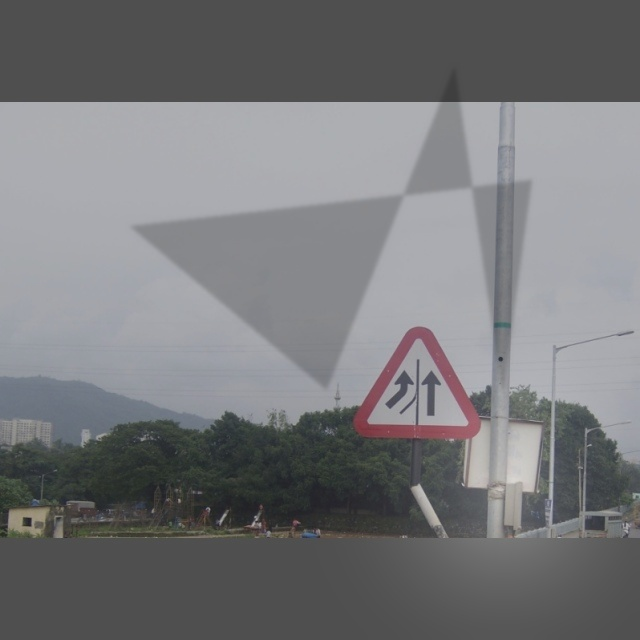Merge_Traffic_Ahead: (352, 328, 488, 445)
